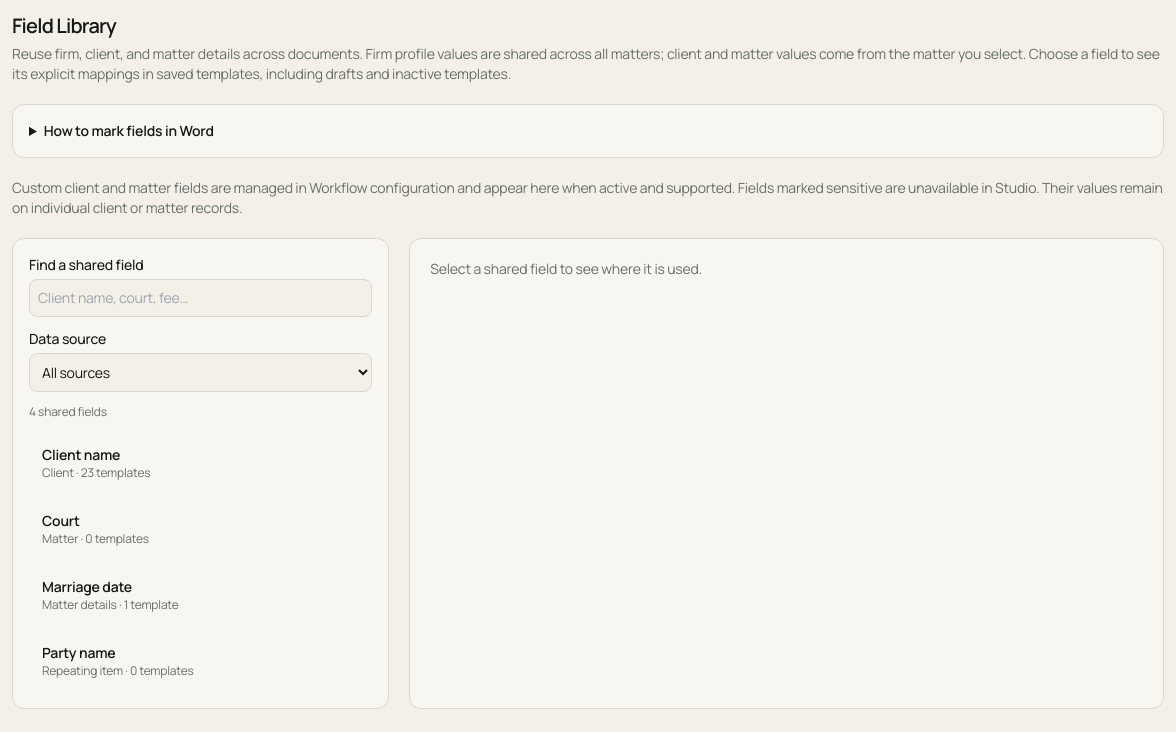
it: discards stale usage responses when switching fields and resets pagination
Click the button "Client name Client · 23 templates".
click(81, 454)  # box [29, 432, 372, 494]
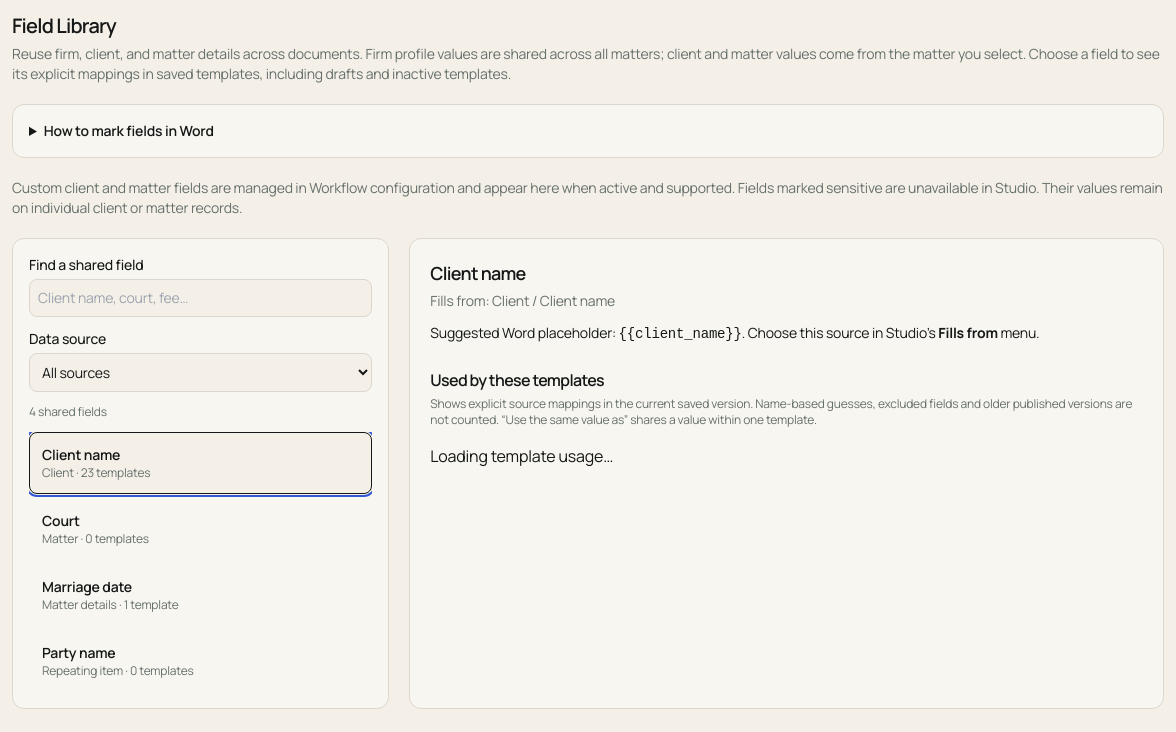
Click the button "Court Matter · 0 templates".
click(61, 520)  # box [29, 498, 372, 560]
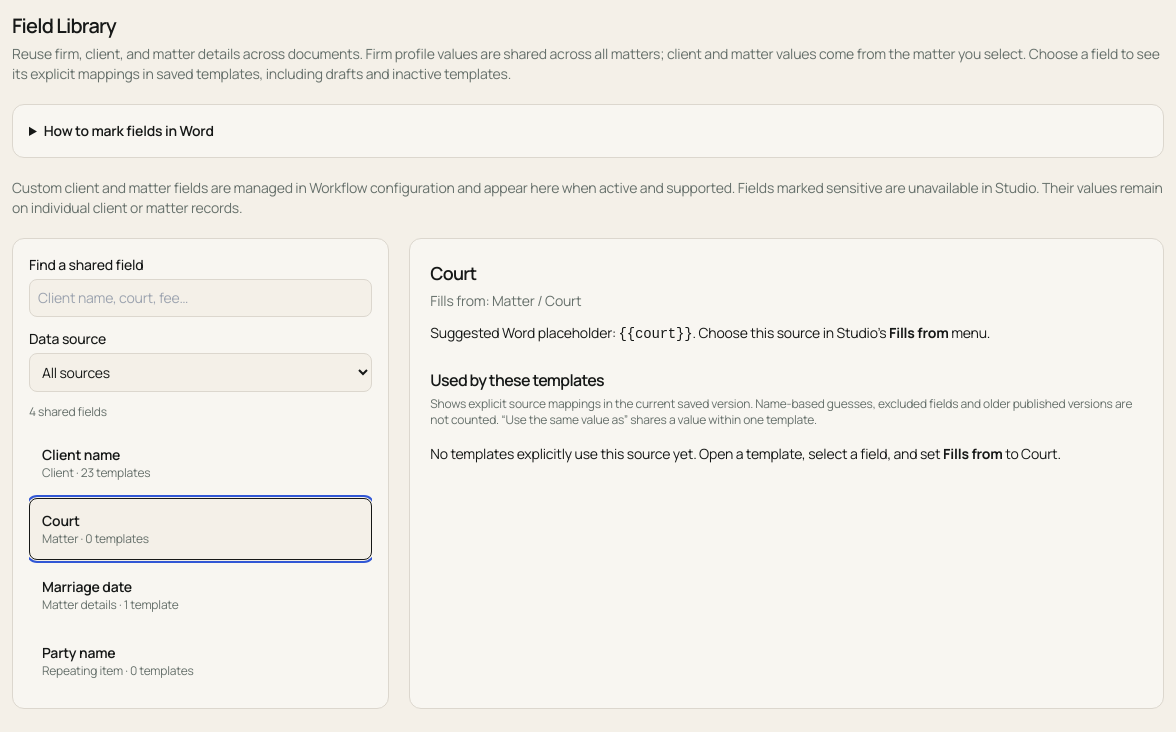
Now the text "No templates explicitly use this source yet" is shown, box [430, 444, 943, 463]
